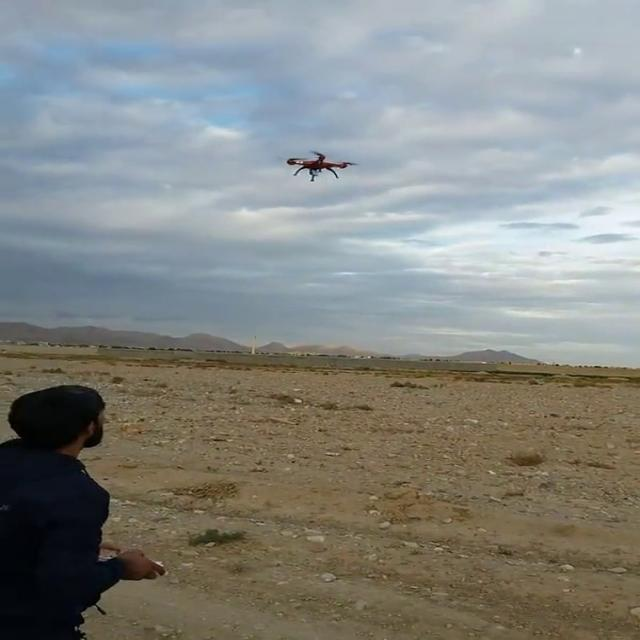drone: (278, 147, 359, 185)
